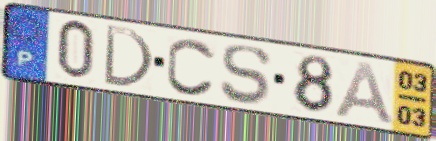0: (54, 18, 99, 86)
8: (289, 53, 336, 116)
A: (332, 59, 398, 127)
C: (164, 36, 218, 99)
D: (100, 23, 157, 91)
S: (219, 44, 274, 107)
